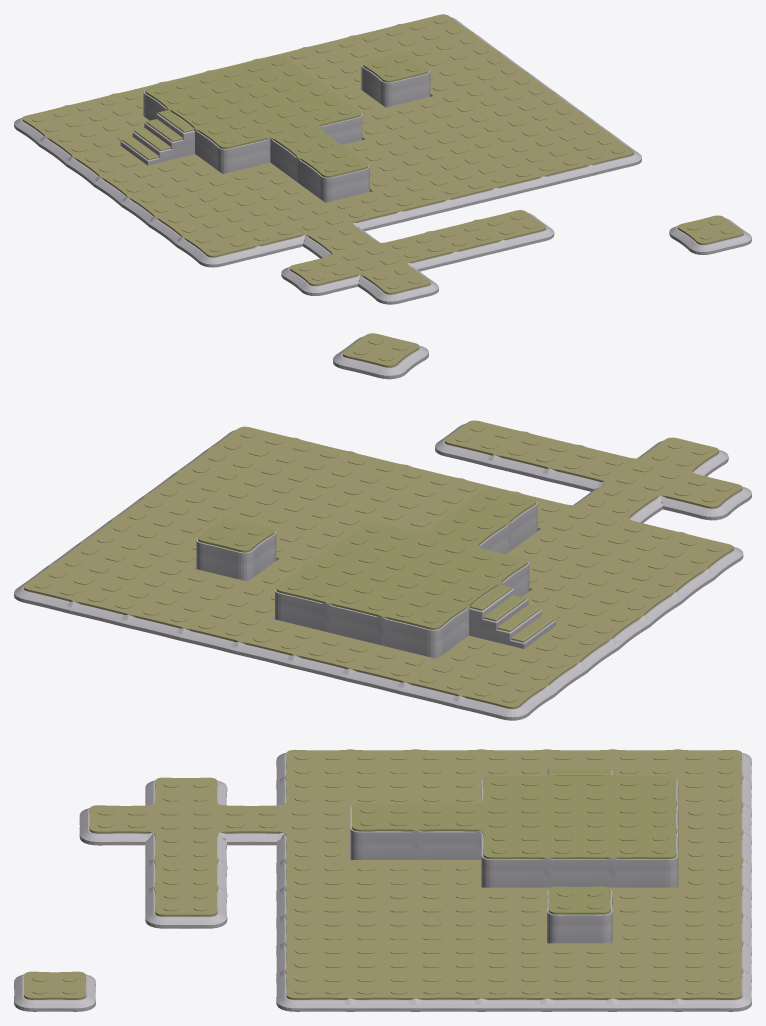
Rendered from island.glb.
3 views of the same model, one above another, from view 1: azimuth 30°, elevation 25°; view 2: azimuth 150°, elevation 25°; view 3: azimuth 270°, elevation 25° (orthographic). The views are drawn at different scales.
Parts seen in each view (by area): view 1: island, pads; view 2: island, pads; view 3: island, pads.
Part boxes in pixels (x1,y1,x2,y2): island: (14, 14, 751, 304); pads: (31, 17, 734, 288); island: (14, 333, 751, 720); pads: (34, 337, 731, 702); island: (14, 749, 751, 1011); pads: (32, 752, 733, 994).
Bounding box in the file's own units: 18.5 × 1.35 × 22.5.
